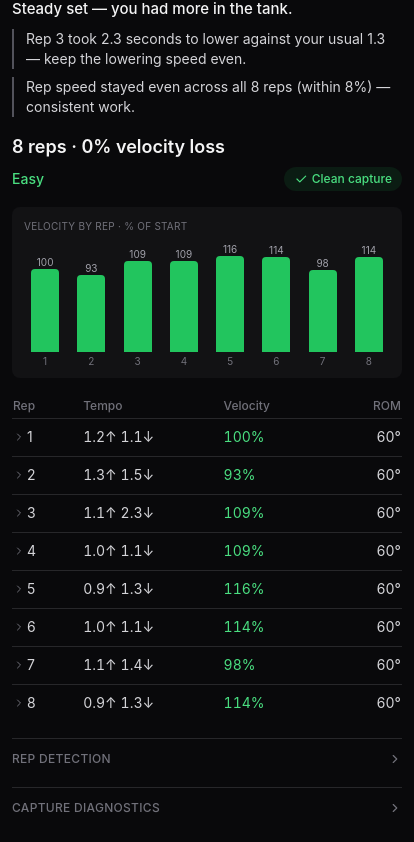
Test: CaptureAnalysisView › logs the rejected setup stroke in diagnostics
Click the button with test id "motion-diagnostics-toggle".
click(86, 807)  # box x1=12 y1=796 x2=402 y2=820
(page scrolled)
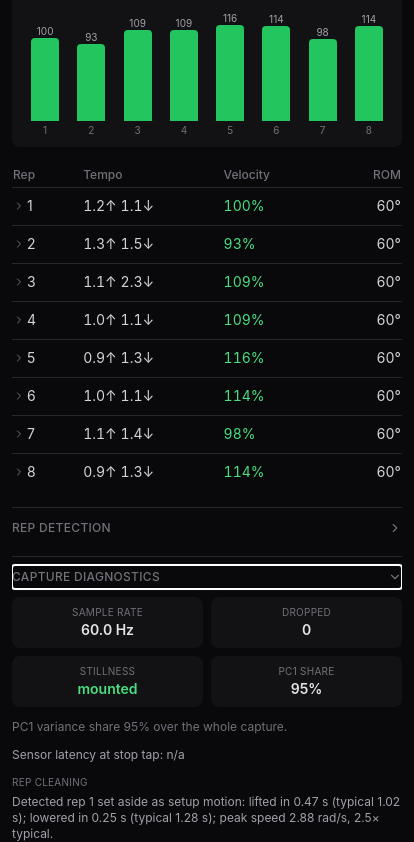
Expected: the element with test id "motion-cleaning-log" shows "Detected rep 1 set aside as setup motion: lifted in 0.47 s (typical 1.02 s)", x1=12 y1=794 x2=400 y2=840
